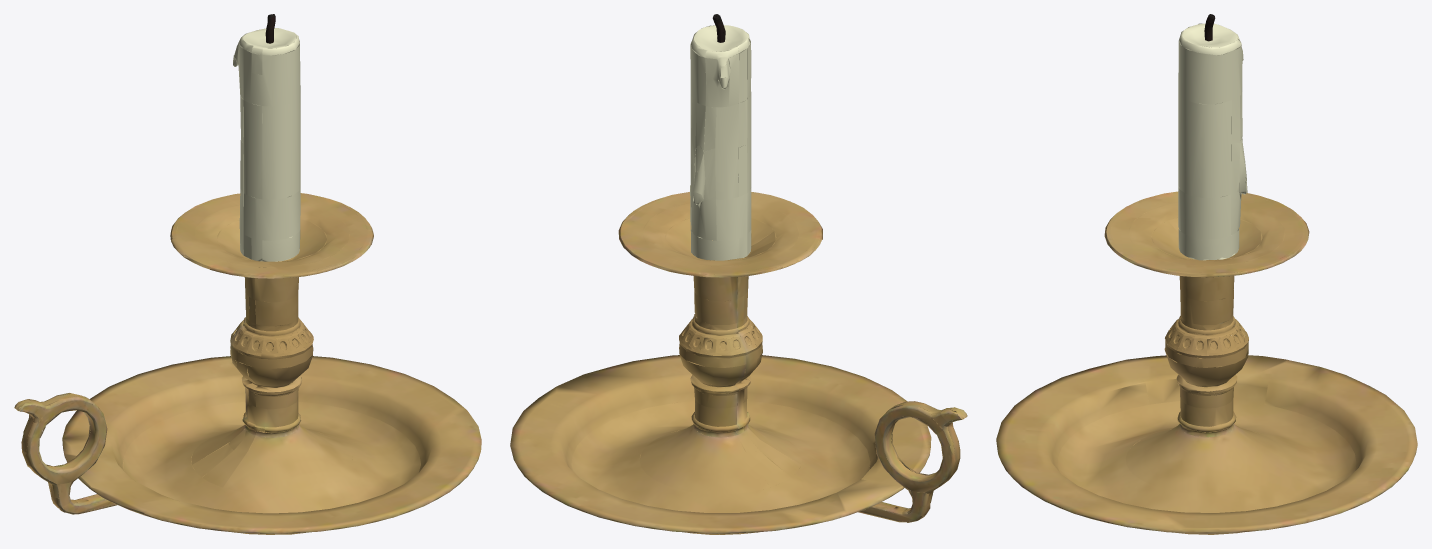
Rendered from obj_candlestick_2.glb.
The picture shows the model from 3 angles, left to right: view 1: azimuth 30°, elevation 25°; view 2: azimuth 150°, elevation 25°; view 3: azimuth 270°, elevation 25°; orthographic projection.
Visible parts, largest first — view 1: base_old brass_0; view 2: base_old brass_0; view 3: base_old brass_0.
Boxes of the visible parts, left/top/right/bottom form: base_old brass_0: left=14, top=14, right=481, bottom=534; base_old brass_0: left=510, top=14, right=967, bottom=534; base_old brass_0: left=996, top=14, right=1417, bottom=534.
Size of the model in its own units: 0.1901 by 0.2001 by 0.16.
3 materials, 2 textured.
